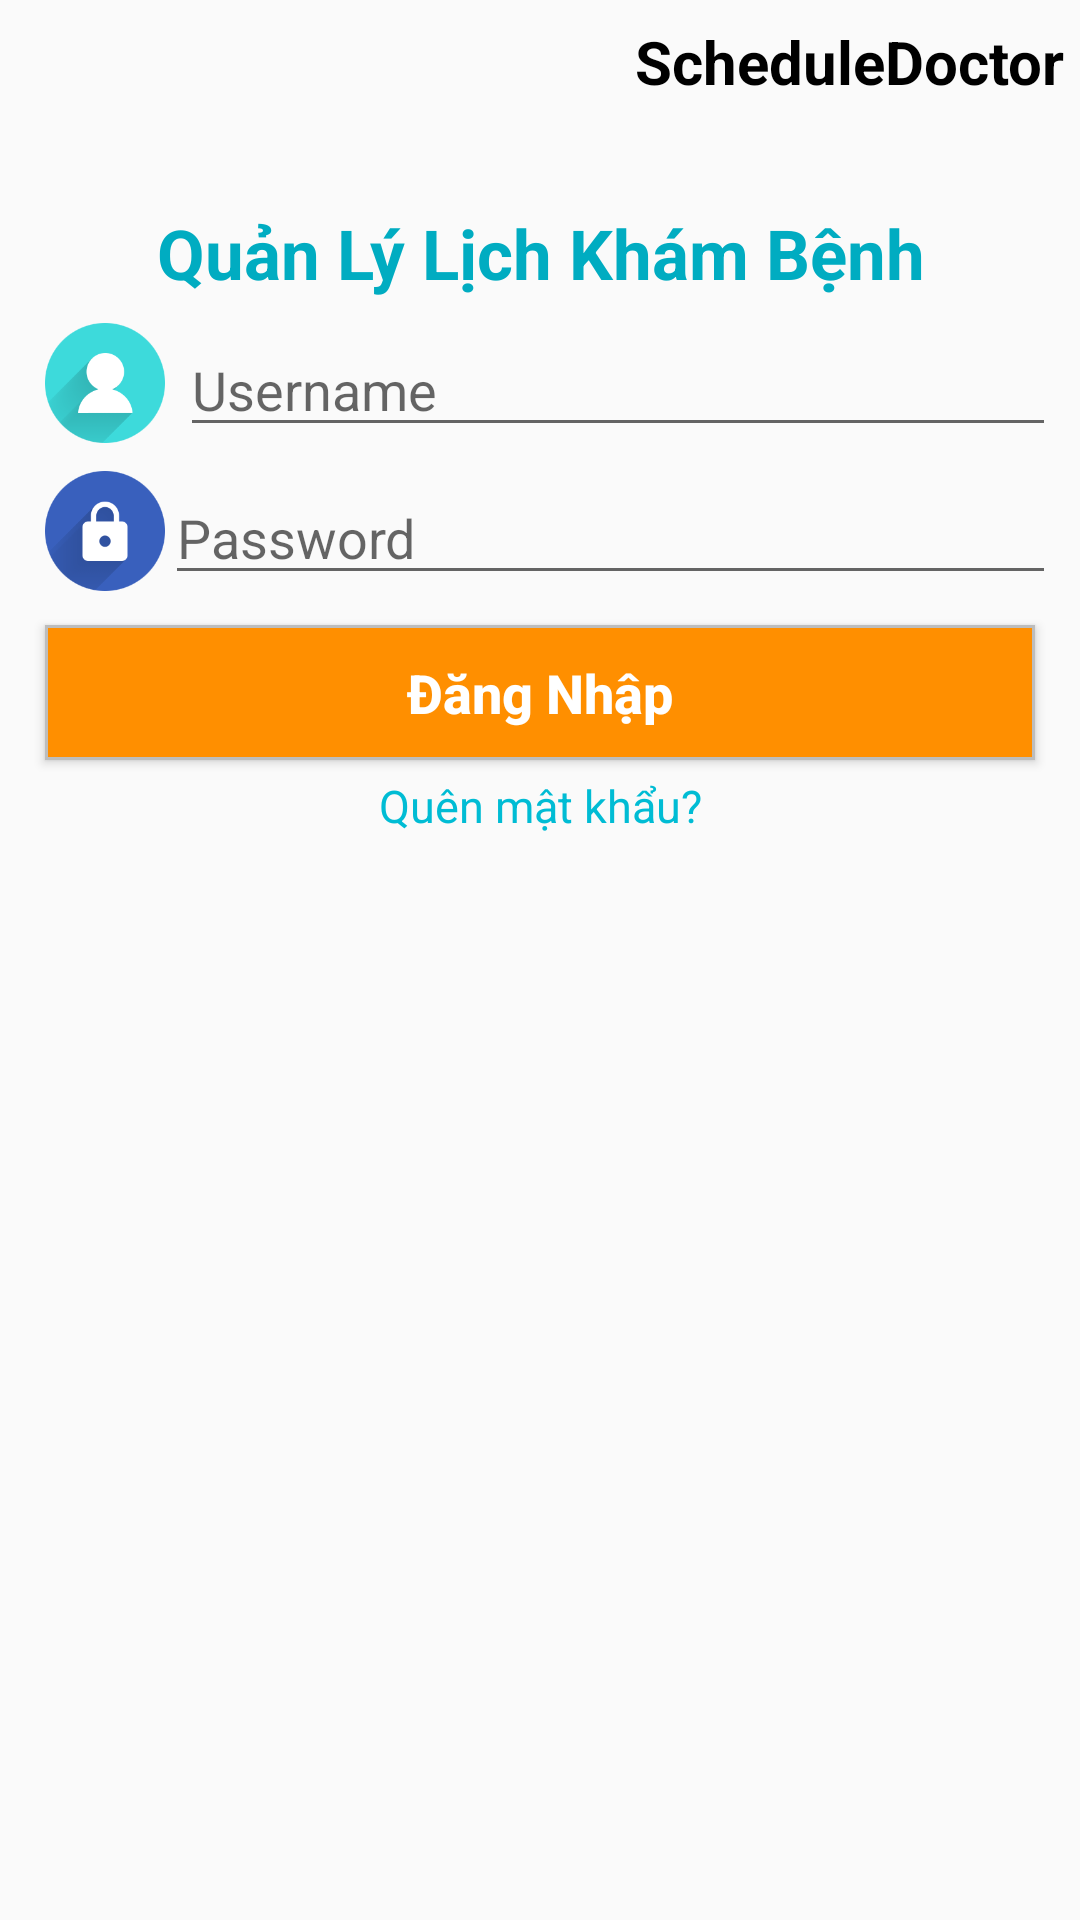

Named icons in this screenshot (1080×1920) and their centers, (x=x, y=y):
apps applock: (x=105, y=531)
apps asuscontacts: (x=105, y=383)
